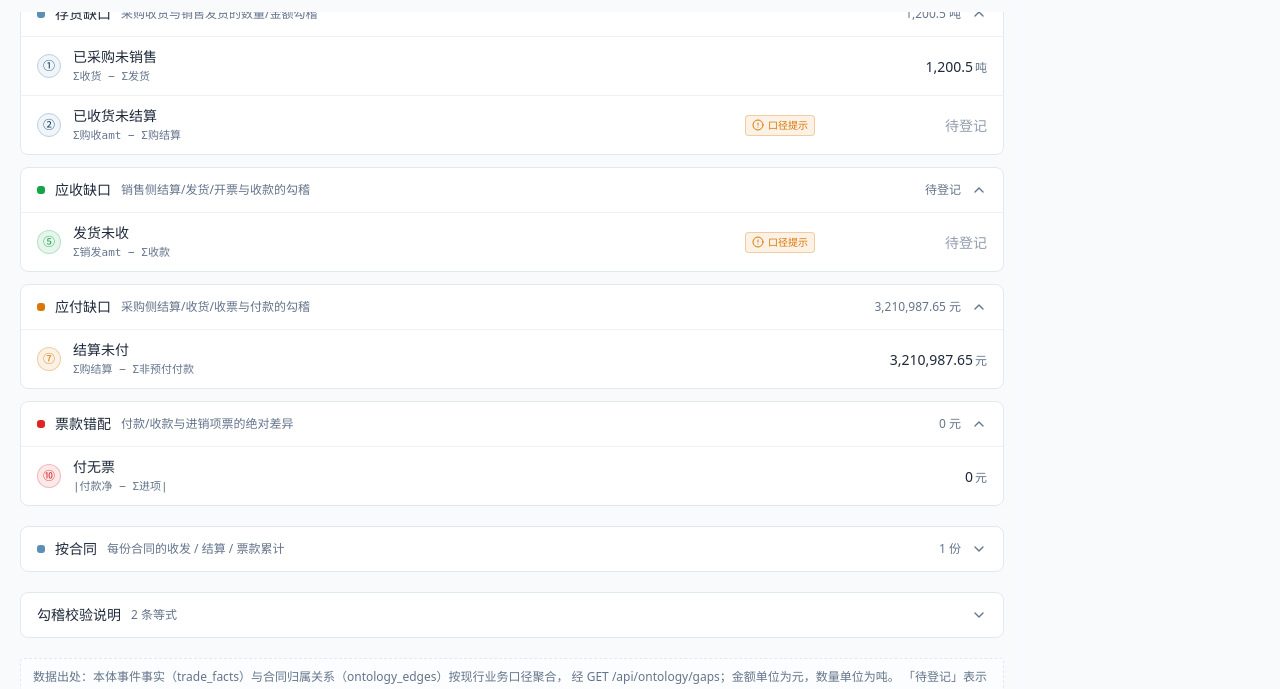
Scenario: GapsPanel 按合同下钻 (wave8) › missing 口径: 数值照显但弱化, 挂「缺」角标 + tooltip; 无 missing 列不出角标
(page scrolled)
Click the text "按合同" at {"x": 76, "y": 549}, box [55, 539, 97, 559]
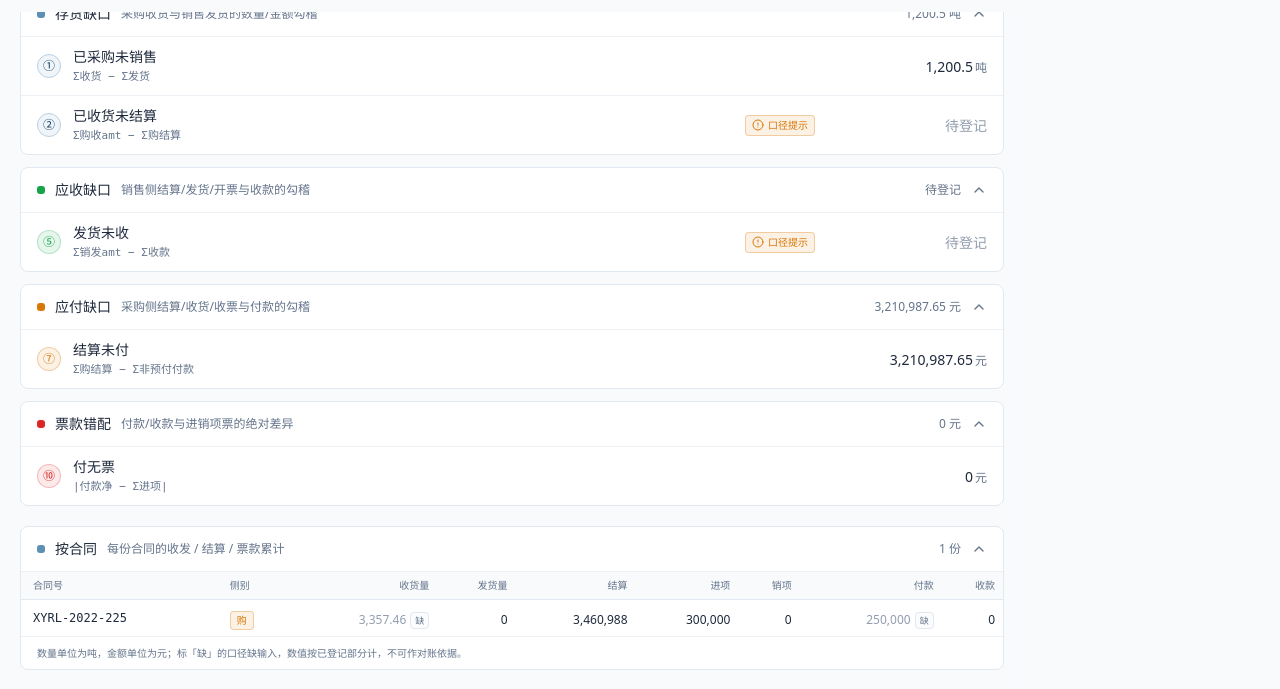
Now the text "XYRL-2022-225" is shown, box [21, 600, 222, 636]
Now the text "缺" is shown 2 times, box [410, 612, 429, 629]; [915, 612, 934, 629]
Now the text "3,357.46" is shown, box [359, 611, 406, 628]
